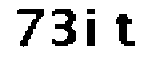3: (46, 4, 80, 50)
7: (13, 5, 45, 49)
i: (84, 3, 102, 52)
t: (111, 11, 143, 56)
